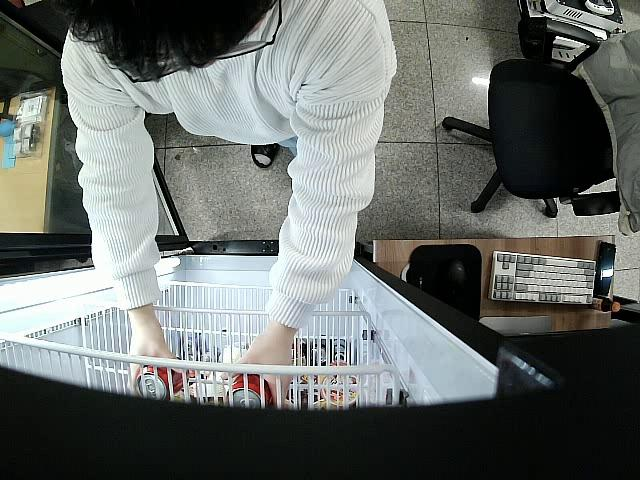00_hand: (224, 334, 295, 408), (128, 333, 186, 376)
11_cocaColaZero: (135, 359, 189, 401), (226, 376, 274, 413)
